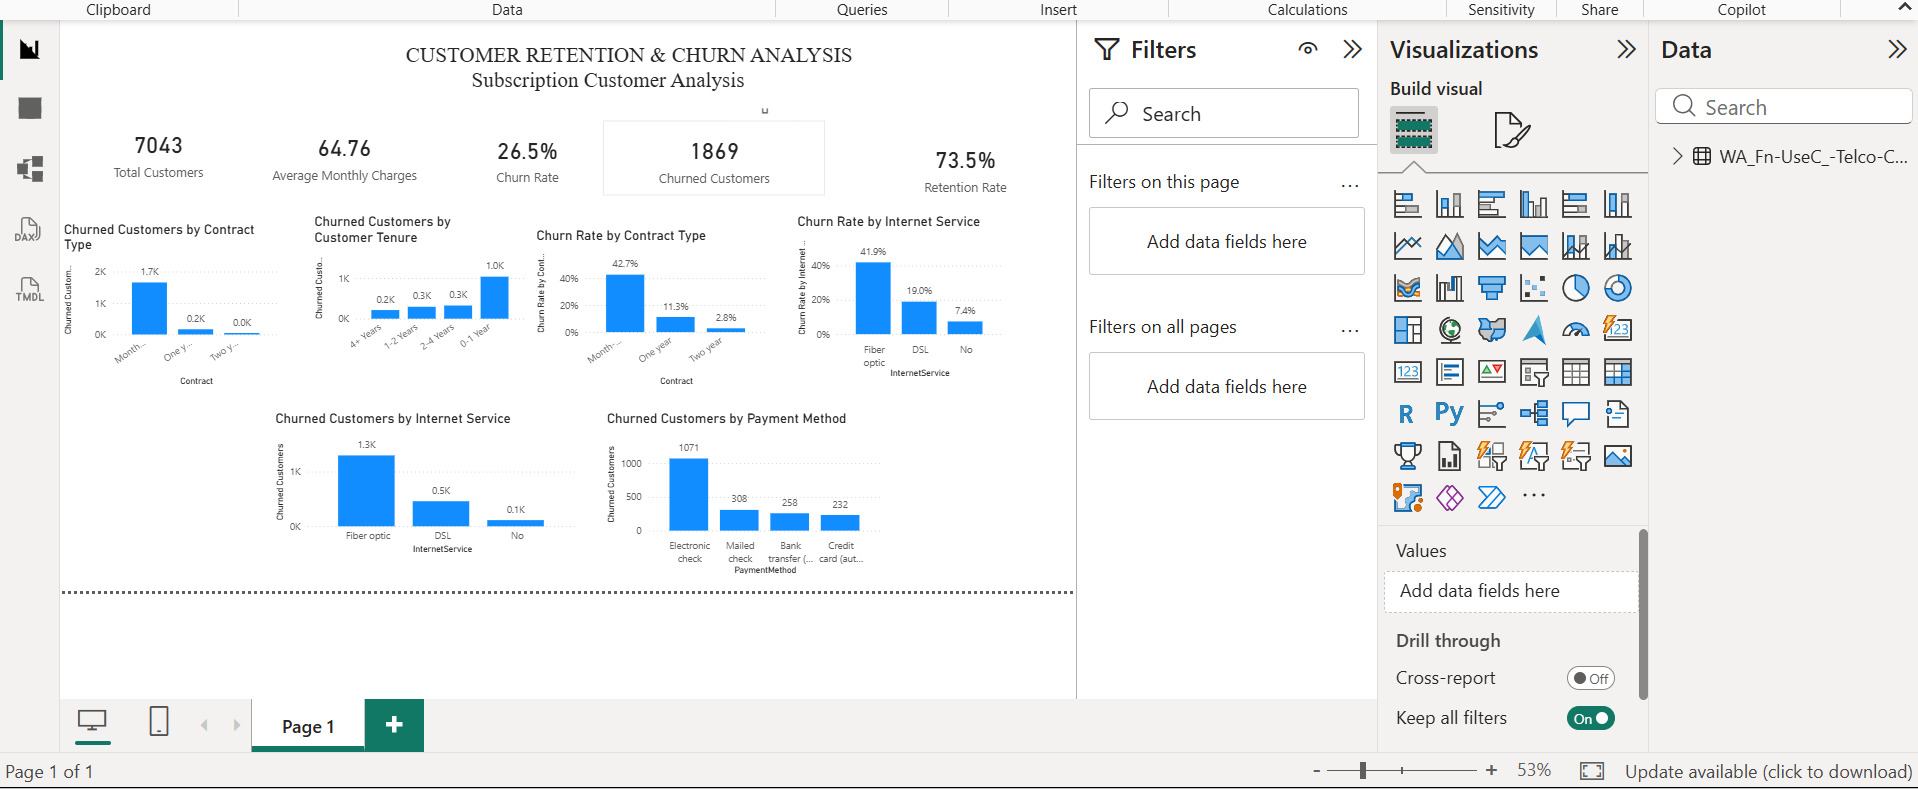

What the dashboard file says about the page in this screenshot:
{"tool":"powerbi","page":{"name":"Page 1","canvas":[1280,720],"ordinal":0},"visuals":[{"type":"card","fields":{"Values":["WA_Fn-UseC_-Telco-Customer-Churn.Total Customers"]},"box":[0,111.5,247.6,109.6],"z":0},{"type":"card","fields":{"Values":["WA_Fn-UseC_-Telco-Customer-Churn.Churn Rate"]},"box":[464.9,115.3,247.6,115.3],"z":1000},{"type":"card","fields":{"Values":["WA_Fn-UseC_-Telco-Customer-Churn.Churned Customers"]},"box":[684.1,126.6,279.7,94.5],"z":2000},{"type":"card","fields":{"Values":["WA_Fn-UseC_-Telco-Customer-Churn.Average Monthly Charges"]},"box":[234.3,115.3,247.6,109.6],"z":3000},{"type":"clusteredColumnChart","title":"Churned Customers by Contract Type","fields":{"Category":["WA_Fn-UseC_-Telco-Customer-Churn.Contract"],"Y":["WA_Fn-UseC_-Telco-Customer-Churn.Churned Customers"]},"box":[0,253.2,281.6,211.7],"z":4000},{"type":"clusteredColumnChart","title":"Churned Customers by Customer Tenure","fields":{"Category":["WA_Fn-UseC_-Telco-Customer-Churn.Tenure Group"],"Y":["WA_Fn-UseC_-Telco-Customer-Churn.Churned Customers"]},"box":[315.6,243.8,274,185.2],"z":5000},{"type":"clusteredColumnChart","title":"Churned Customers by Internet Service","fields":{"Category":["WA_Fn-UseC_-Telco-Customer-Churn.InternetService"],"Y":["WA_Fn-UseC_-Telco-Customer-Churn.Churned Customers"]},"box":[266.5,491.3,389.3,185.2],"z":6000},{"type":"clusteredColumnChart","title":"Churn Rate by Contract Type","fields":{"Category":["WA_Fn-UseC_-Telco-Customer-Churn.Contract"],"Y":["WA_Fn-UseC_-Telco-Customer-Churn.Churn Rate by Contract"]},"box":[595.3,260.8,300.5,204.1],"z":7000},{"type":"card","fields":{"Values":["WA_Fn-UseC_-Telco-Customer-Churn.Retention Rate"]},"box":[1011,126.6,258.9,117.2],"z":8000},{"type":"clusteredColumnChart","title":"Churned Customers by Payment Method","fields":{"Category":["WA_Fn-UseC_-Telco-Customer-Churn.PaymentMethod"],"Y":["WA_Fn-UseC_-Telco-Customer-Churn.Churned Customers"]},"box":[684.1,491.3,355.3,211.7],"z":9000},{"type":"clusteredColumnChart","title":"Churn Rate by Internet Service","fields":{"Category":["WA_Fn-UseC_-Telco-Customer-Churn.InternetService"],"Y":["WA_Fn-UseC_-Telco-Customer-Churn.Churn Rate by Internet Service"]},"box":[924.1,243.8,268.3,211.7],"z":10000},{"type":"textbox","box":[100.2,22.7,978.9,88.8],"z":10001}]}

Visuals, with their boxes on the page's 1280x720 design canvas (x1, y1, x2, y2). These are canvas units, not pixel positions in the 1918x789 screenshot, which may show the page scaled, cropped or inside an application window:
card - WA_Fn-UseC_-Telco-Customer-Churn.Total Customers: detection(0, 112, 248, 221)
card - WA_Fn-UseC_-Telco-Customer-Churn.Churn Rate: detection(465, 115, 712, 231)
card - WA_Fn-UseC_-Telco-Customer-Churn.Churned Customers: detection(684, 127, 964, 221)
card - WA_Fn-UseC_-Telco-Customer-Churn.Average Monthly Charges: detection(234, 115, 482, 225)
"Churned Customers by Contract Type" clusteredColumnChart: detection(0, 253, 282, 465)
"Churned Customers by Customer Tenure" clusteredColumnChart: detection(316, 244, 590, 429)
"Churned Customers by Internet Service" clusteredColumnChart: detection(266, 491, 656, 676)
"Churn Rate by Contract Type" clusteredColumnChart: detection(595, 261, 896, 465)
card - WA_Fn-UseC_-Telco-Customer-Churn.Retention Rate: detection(1011, 127, 1270, 244)
"Churned Customers by Payment Method" clusteredColumnChart: detection(684, 491, 1039, 703)
"Churn Rate by Internet Service" clusteredColumnChart: detection(924, 244, 1192, 456)
textbox: detection(100, 23, 1079, 112)
